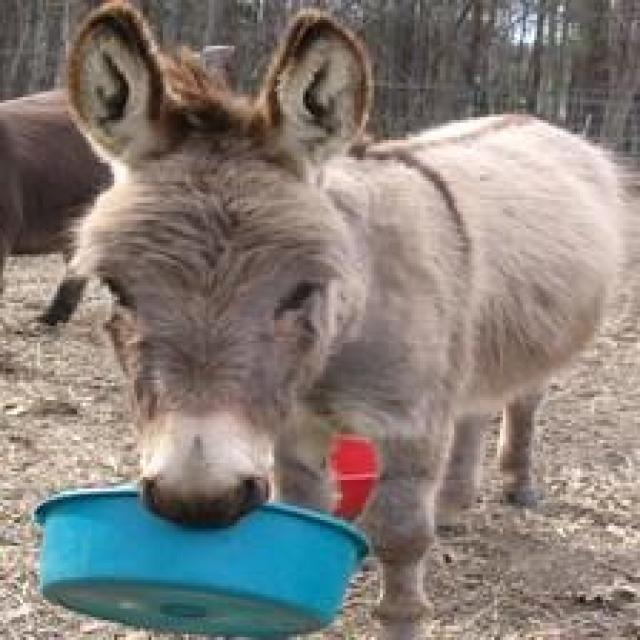Donkey: (52, 0, 637, 637), (0, 83, 114, 360)
